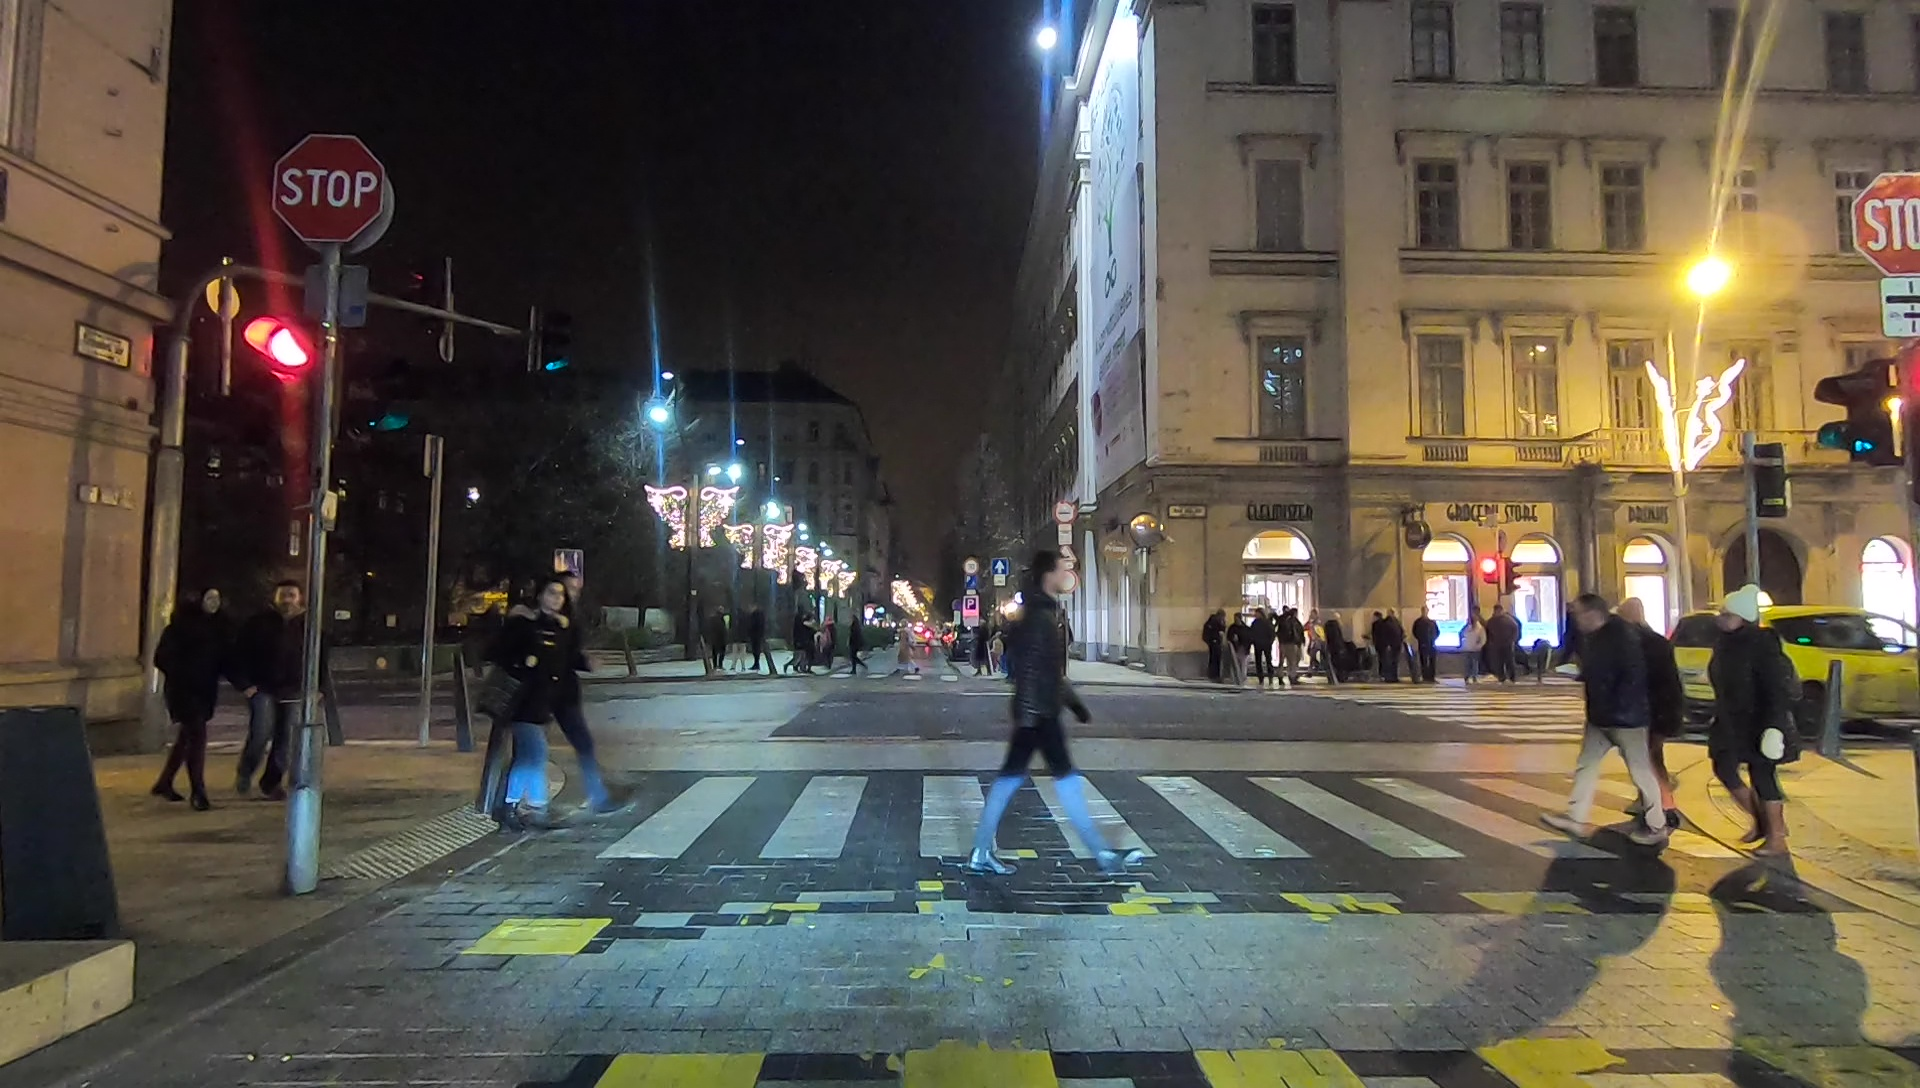person: (969, 541, 1143, 867), (1541, 593, 1667, 847), (523, 565, 639, 821), (1697, 589, 1801, 860), (238, 582, 317, 800), (489, 584, 558, 832), (160, 591, 221, 806), (1486, 602, 1519, 673), (741, 600, 767, 674), (1276, 602, 1302, 676), (1414, 606, 1438, 676), (1254, 600, 1273, 680), (1201, 604, 1223, 674), (1228, 610, 1249, 680), (706, 608, 725, 674), (1462, 610, 1482, 673), (1386, 606, 1404, 673), (1367, 608, 1386, 673), (788, 599, 804, 673), (845, 619, 865, 673), (804, 610, 819, 676), (821, 617, 838, 674)
